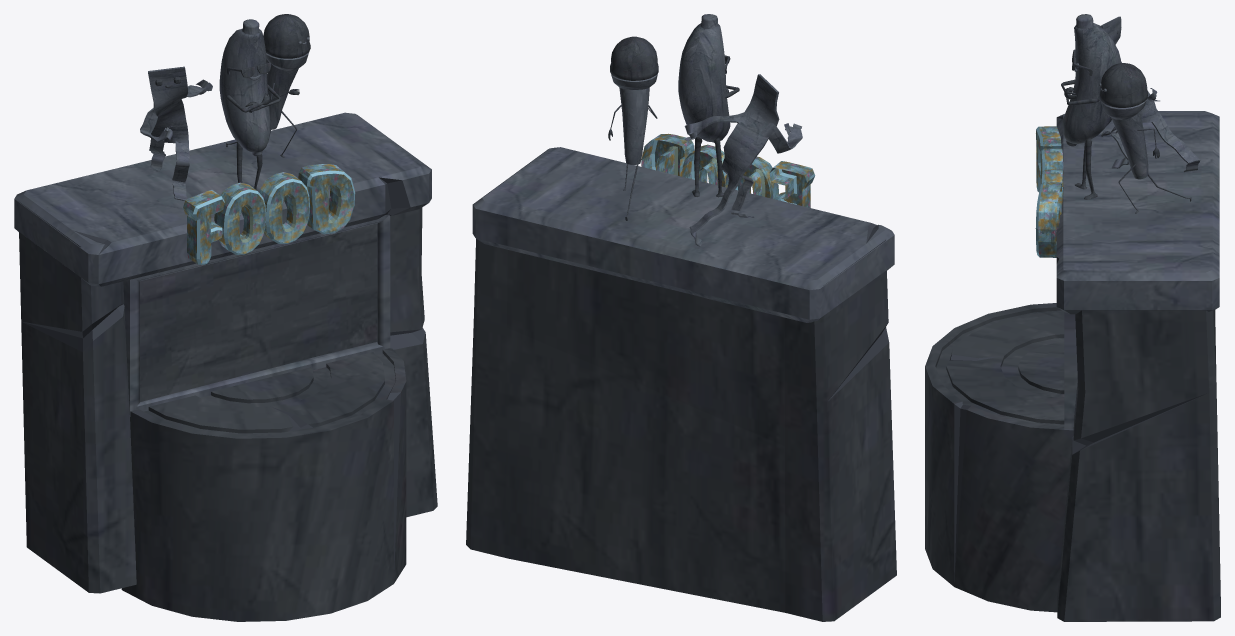
The model's file is stand-food01.glb.
The picture shows the model from 3 angles, left to right: view 1: azimuth 30°, elevation 25°; view 2: azimuth 150°, elevation 25°; view 3: azimuth 270°, elevation 25°; orthographic projection.
Parts seen in each view (by area): view 1: StandFood01; view 2: StandFood01; view 3: StandFood01.
Boxes of the visible parts, bbox=[...] form: StandFood01: bbox=[14, 14, 437, 621]; StandFood01: bbox=[466, 14, 896, 621]; StandFood01: bbox=[925, 14, 1220, 621].
Size of what is drawn, in the model's own units: 11.13 by 16.18 by 8.14.
1 material, 1 textured.
